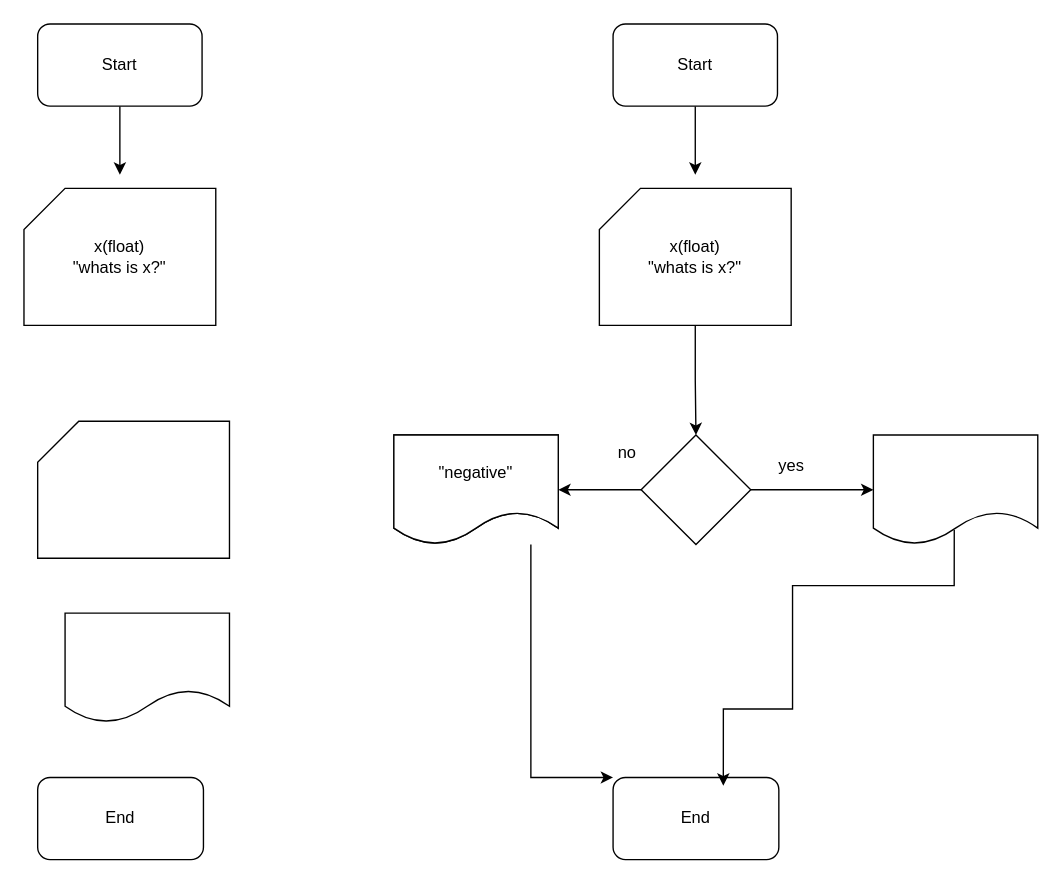
Some shapes in this 1062 by 884 pixel diagram are drawn without their labels. Each missing label, with the centre of its shape:
"positive": [955,489]
x+y: [146,667]
x>0: [695,489]
yfloat) "whats is y?": [132,489]
